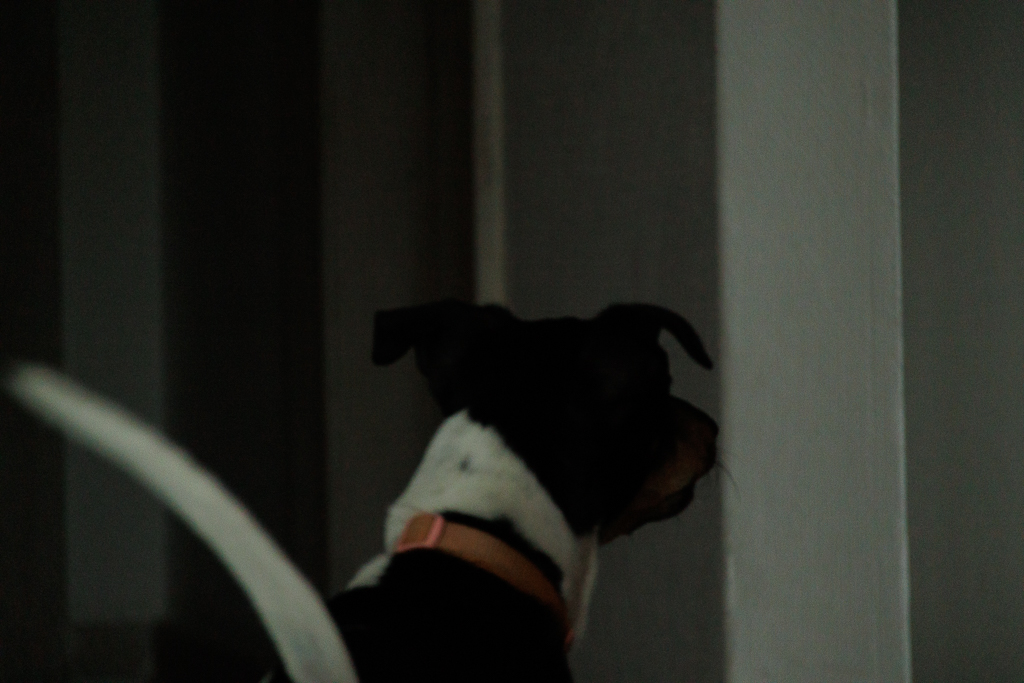Dog: (0, 286, 759, 683)
